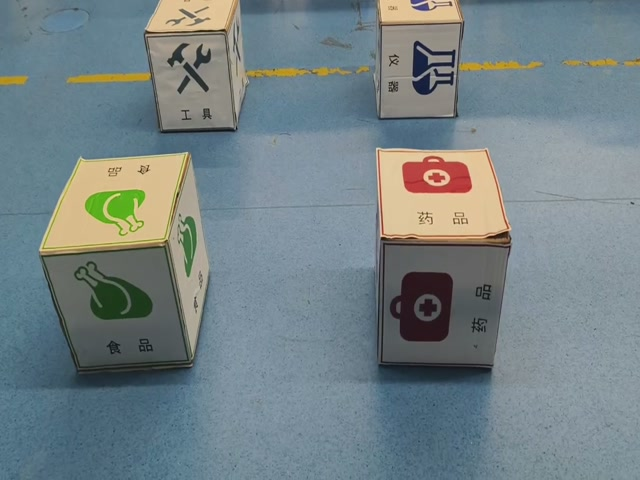Cube_food: (37, 152, 187, 257)
Cube_ins: (375, 0, 465, 27)
Cube_medicine: (375, 147, 512, 247)
Cube_tool: (144, 1, 236, 36)
